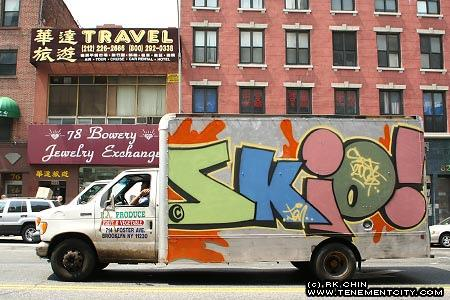truck: (35, 112, 436, 284)
